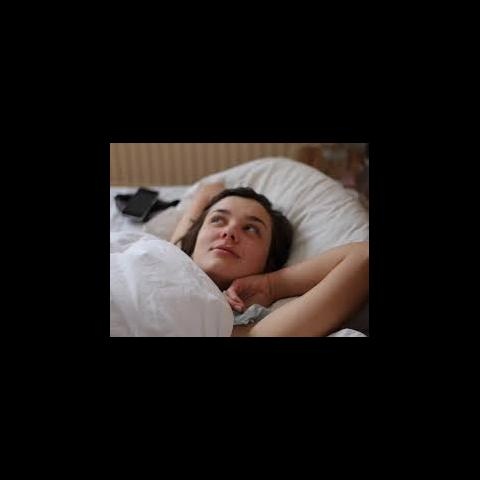opened: (205, 210, 270, 240)
